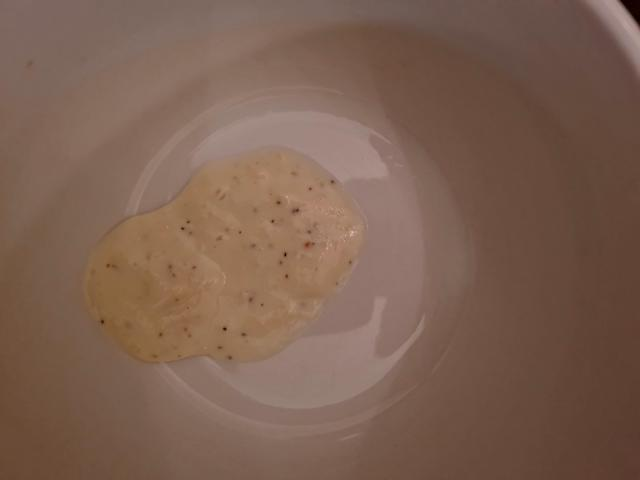kichen waste: (83, 148, 365, 363)
